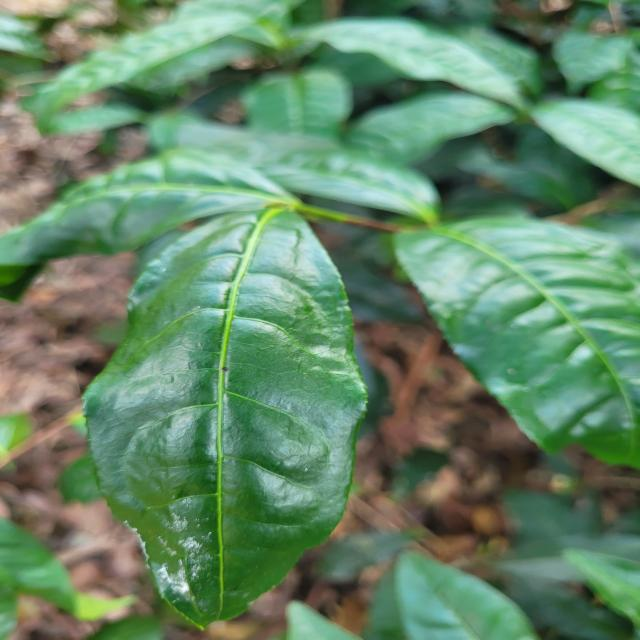Category D(7+ days, Not for Tea): (66, 167, 385, 636)
